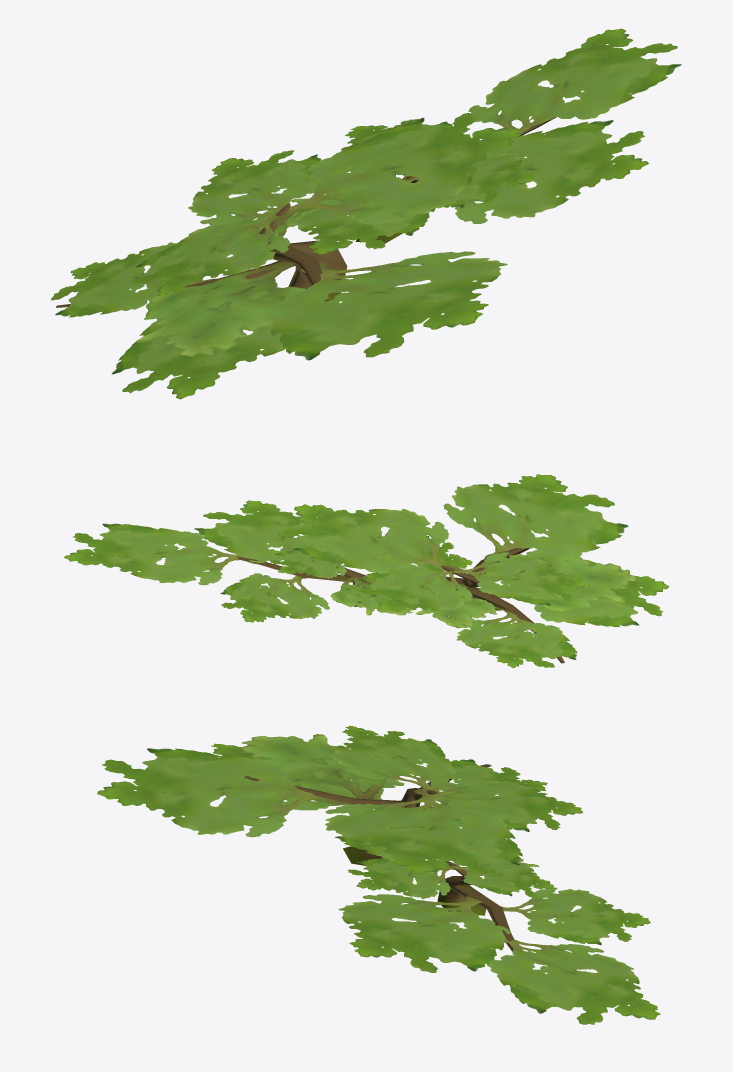
The model's file is liemo_plant_07 (18) #65350122.fbx.
The picture shows the model from 3 angles, top to bottom: view 1: azimuth 30°, elevation 25°; view 2: azimuth 150°, elevation 25°; view 3: azimuth 270°, elevation 25°; orthographic projection. The views are drawn at different scales.
Parts seen in each view (by area): view 1: liemo_plant_07 (18); view 2: liemo_plant_07 (18); view 3: liemo_plant_07 (18).
Part boxes in pixels (left/top/right/bottom): liemo_plant_07 (18): left=51, top=28, right=681, bottom=399; liemo_plant_07 (18): left=64, top=474, right=668, bottom=668; liemo_plant_07 (18): left=97, top=725, right=660, bottom=1024.
Size of the model in its own units: 9.32 by 1.19 by 7.01.
